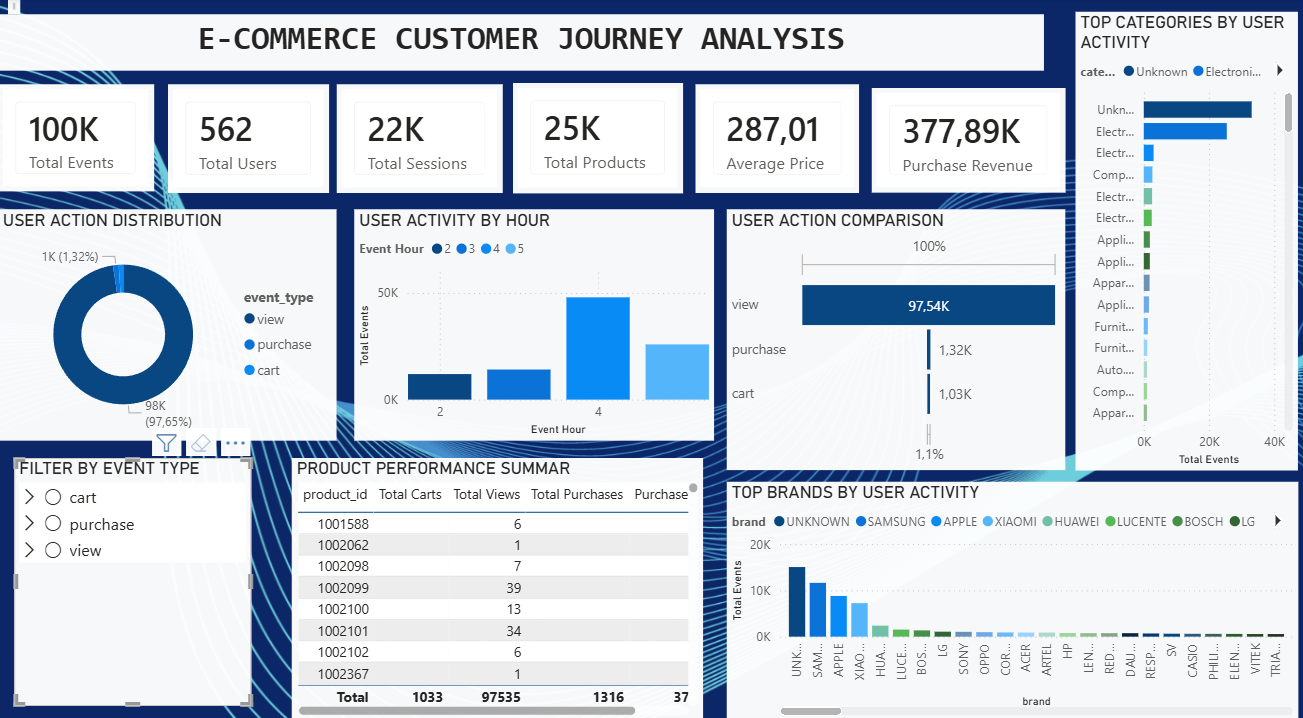

Layout of this report page (visuals, bound fields, positions):
{"tool":"powerbi","page":{"name":"Page 1","canvas":[1280,720],"ordinal":0},"visuals":[{"type":"textbox","box":[9.8,0,12.2,15.9],"z":0},{"type":"textbox","box":[0,15.9,1023.5,55],"z":1000},{"type":"cardVisual","fields":{"Data":["cleaned_recentdata1.Total Events"]},"box":[0,84.4,152.9,105.2],"z":2000},{"type":"cardVisual","fields":{"Data":["cleaned_recentdata1.Total Users"]},"box":[166.3,84.4,157.7,106.4],"z":3000},{"type":"cardVisual","fields":{"Data":["cleaned_recentdata1.Total Sessions"]},"box":[331.4,84.4,162.6,106.4],"z":4000},{"type":"cardVisual","fields":{"Data":["cleaned_recentdata1.Total Products"]},"box":[503.8,83.2,166.3,107.6],"z":5000},{"type":"cardVisual","fields":{"Data":["cleaned_recentdata1.Average Price"]},"box":[682.3,84.4,160.2,106.4],"z":6000},{"type":"cardVisual","fields":{"Data":["cleaned_recentdata1.Purchase Revenue"]},"box":[854.8,88,189.5,102.7],"z":7000},{"type":"donutChart","title":"USER ACTION DISTRIBUTION","fields":{"Category":["cleaned_recentdata1.event_type"],"Y":["cleaned_recentdata1.Total Events"]},"box":[0,206.7,331.4,226.2],"z":7001},{"type":"columnChart","title":"USER ACTIVITY BY HOUR","fields":{"Y":["cleaned_recentdata1.Total Events"],"Category":["cleaned_recentdata1.Event Hour"],"Series":["cleaned_recentdata1.Event Hour"]},"box":[348.5,206.7,352.2,226.2],"z":7002},{"type":"barChart","title":"TOP CATEGORIES BY USER ACTIVITY","fields":{"Category":["cleaned_recentdata1.category_code"],"Y":["cleaned_recentdata1.Total Events"],"Series":["cleaned_recentdata1.category_code"]},"box":[1054.1,13.5,217.7,448.8],"z":7003},{"type":"columnChart","title":"TOP BRANDS BY USER ACTIVITY","fields":{"Category":["cleaned_recentdata1.brand"],"Y":["cleaned_recentdata1.Total Events"],"Series":["cleaned_recentdata1.brand"]},"box":[712.9,473.2,558.8,233.6],"z":7004},{"type":"funnel","title":"USER ACTION COMPARISON","fields":{"Category":["cleaned_recentdata1.event_type"],"Y":["CountNonNull(cleaned_recentdata1.event_type)"]},"box":[712.9,206.7,331.4,255.6],"z":7005},{"type":"listSlicer","title":"FILTER BY EVENT TYPE","fields":{"Values":["cleaned_recentdata1.event_type","cleaned_recentdata1.brand","cleaned_recentdata1.Main Category","cleaned_recentdata1.Event Date.Variation.Date Hierarchy.Year","cleaned_recentdata1.Event Date.Variation.Date Hierarchy.Quarter","cleaned_recentdata1.Event Date.Variation.Date Hierarchy.Month","cleaned_recentdata1.Event Date.Variation.Date Hierarchy.Day"]},"box":[15.9,450,232.3,242.1],"z":7006},{"type":"tableEx","title":"PRODUCT PERFORMANCE SUMMAR","fields":{"Values":["cleaned_recentdata1.product_id","cleaned_recentdata1.Total Carts","cleaned_recentdata1.Total Views","cleaned_recentdata1.Total Purchases","cleaned_recentdata1.Purchase Revenue"]},"box":[287.4,450,402.3,256.8],"z":7007}]}

Visuals, with their boxes in screenshot pixels (x1, y1, x2, y2), scaled from the page's 1280x720 canvas onto the 1303x718 screenshot:
textbox: locate(10, 0, 22, 16)
textbox: locate(0, 16, 1042, 71)
cardVisual - cleaned_recentdata1.Total Events: locate(0, 84, 156, 189)
cardVisual - cleaned_recentdata1.Total Users: locate(169, 84, 330, 190)
cardVisual - cleaned_recentdata1.Total Sessions: locate(337, 84, 503, 190)
cardVisual - cleaned_recentdata1.Total Products: locate(513, 83, 682, 190)
cardVisual - cleaned_recentdata1.Average Price: locate(695, 84, 858, 190)
cardVisual - cleaned_recentdata1.Purchase Revenue: locate(870, 88, 1063, 190)
"USER ACTION DISTRIBUTION" donutChart: locate(0, 206, 337, 432)
"USER ACTIVITY BY HOUR" columnChart: locate(355, 206, 713, 432)
"TOP CATEGORIES BY USER ACTIVITY" barChart: locate(1073, 13, 1295, 461)
"TOP BRANDS BY USER ACTIVITY" columnChart: locate(726, 472, 1295, 705)
"USER ACTION COMPARISON" funnel: locate(726, 206, 1063, 461)
"FILTER BY EVENT TYPE" listSlicer: locate(16, 449, 253, 690)
"PRODUCT PERFORMANCE SUMMAR" tableEx: locate(293, 449, 702, 705)
